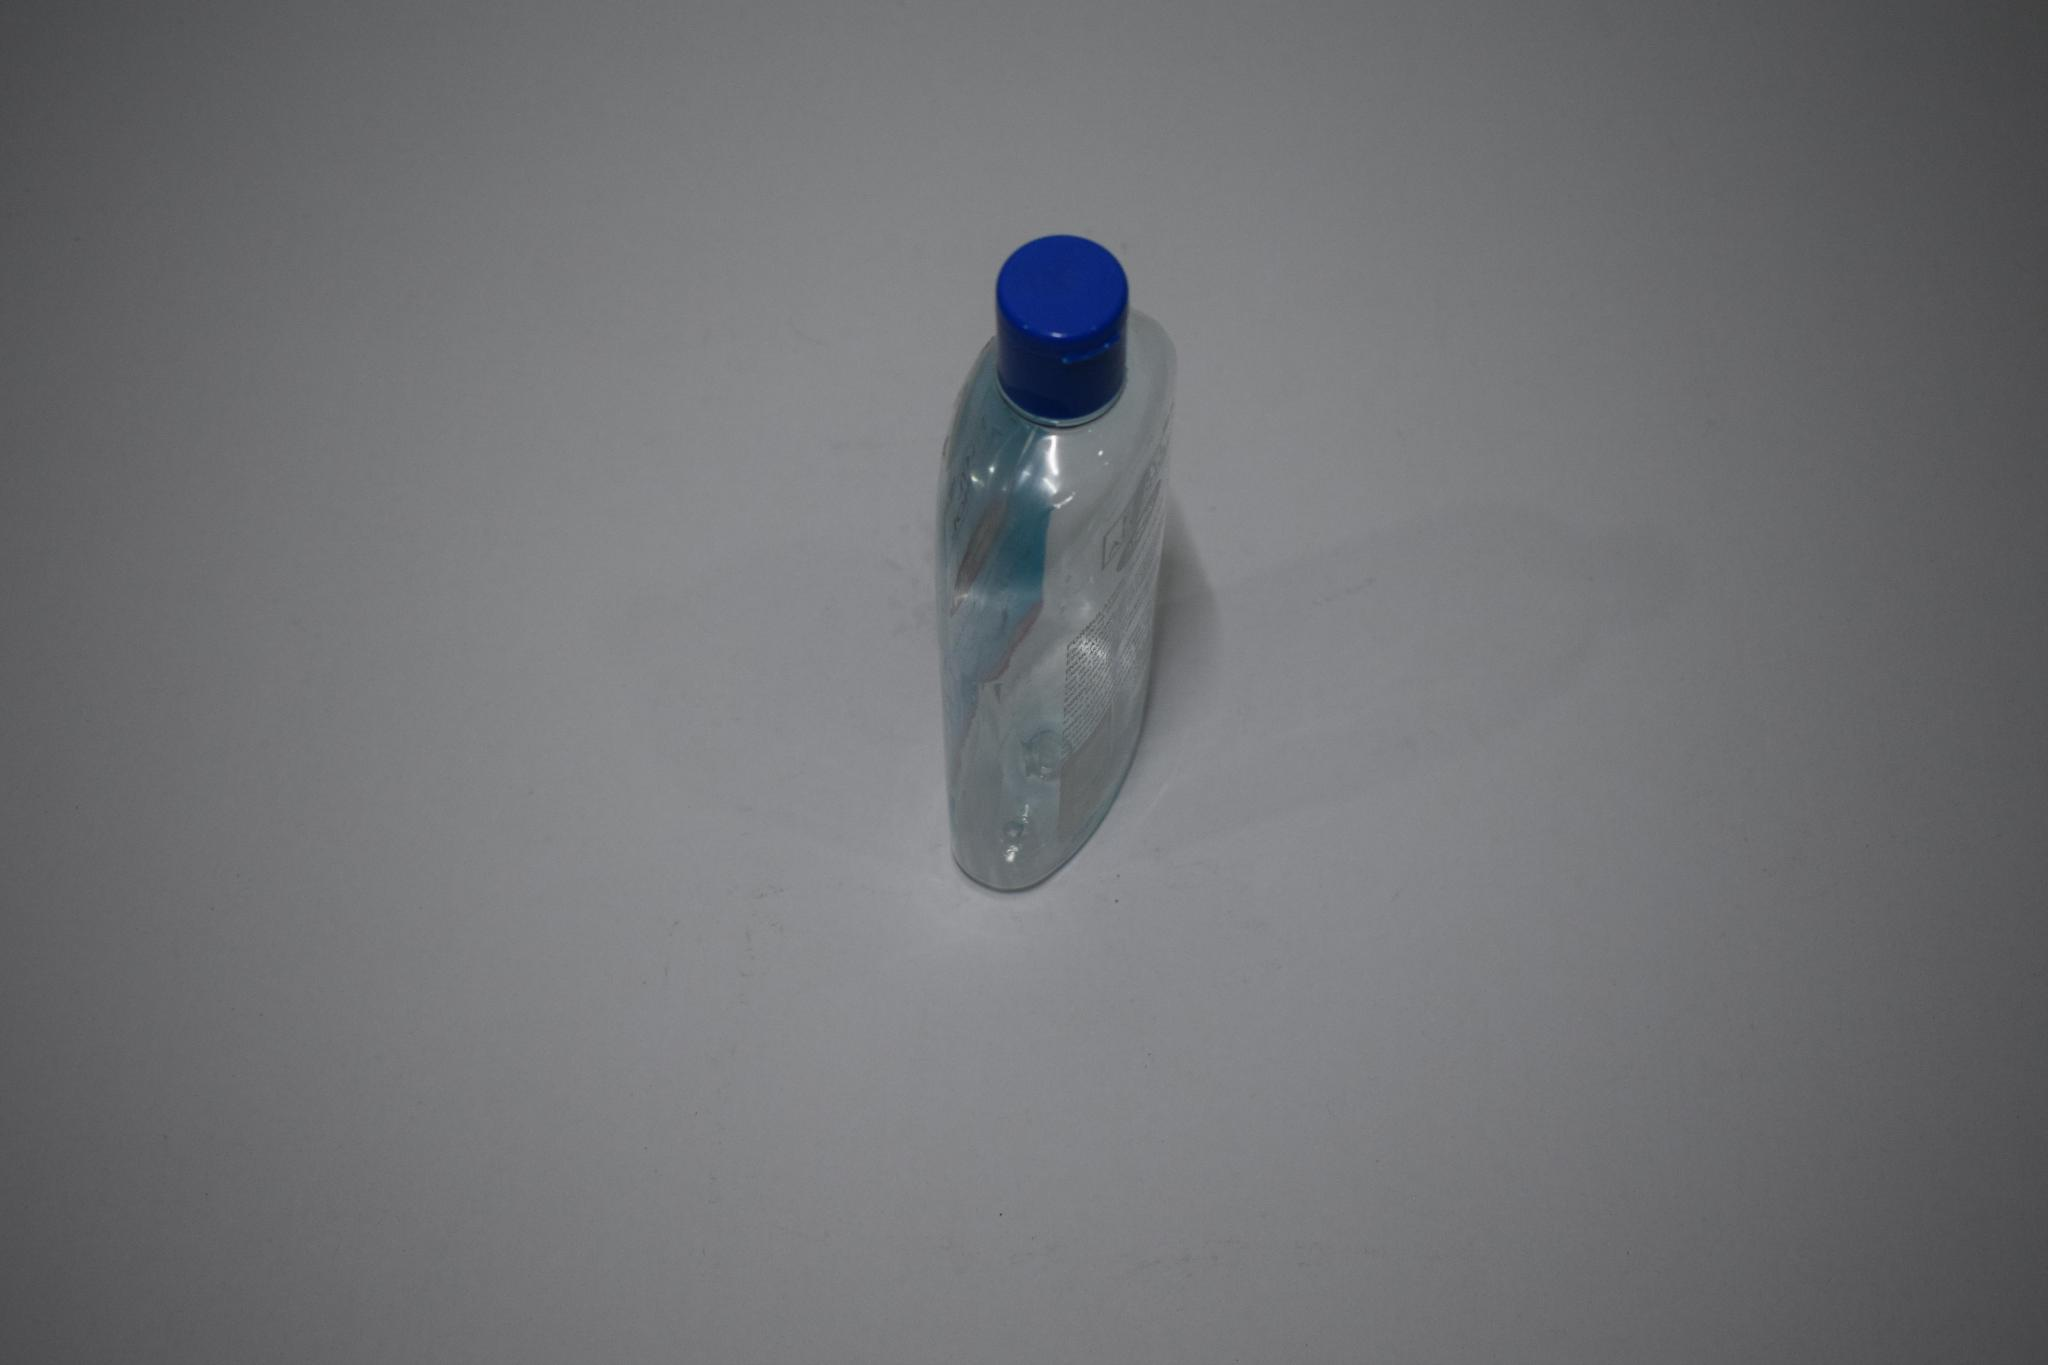bottle: (922, 231, 1200, 909)
